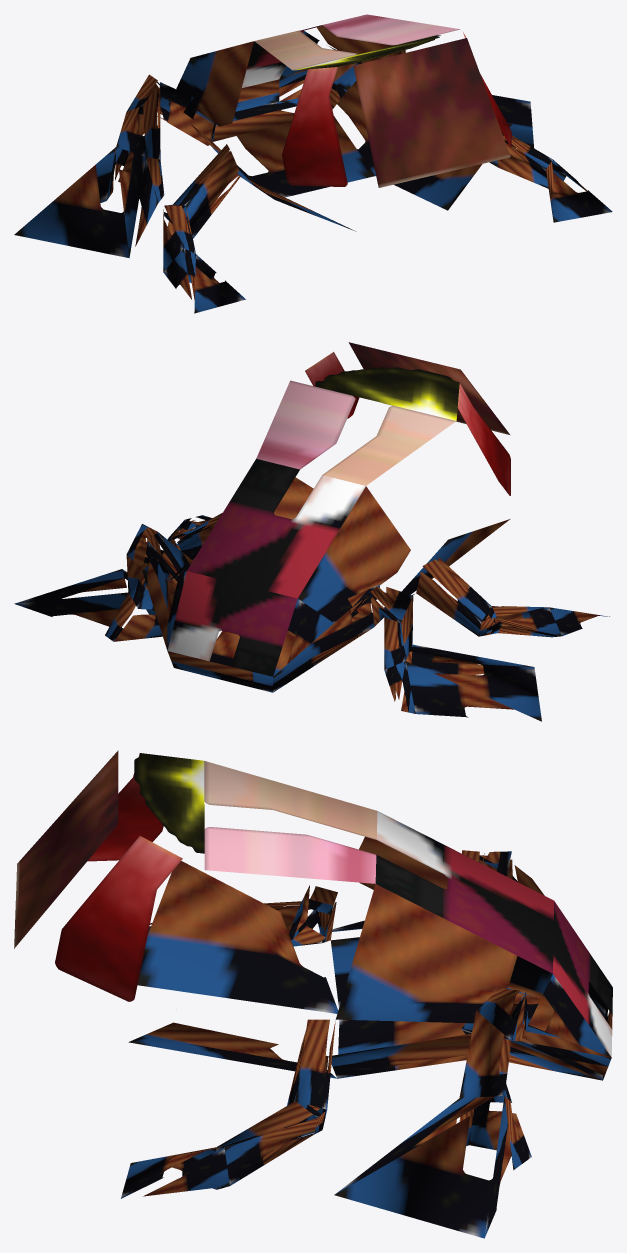
The picture shows the model from 3 angles, top to bottom: view 1: azimuth 30°, elevation 25°; view 2: azimuth 150°, elevation 25°; view 3: azimuth 270°, elevation 25°; orthographic projection. The views are drawn at different scales.
Visible parts, largest first — view 1: T1L2M001_25; view 2: T1L2M001_25; view 3: T1L2M001_25.
Part boxes in pixels (left/top/right/bottom): T1L2M001_25: left=14, top=14, right=612, bottom=313; T1L2M001_25: left=14, top=342, right=609, bottom=721; T1L2M001_25: left=14, top=750, right=612, bottom=1238.
Size of the model in its own units: 1.26 by 0.4966 by 0.9313.
